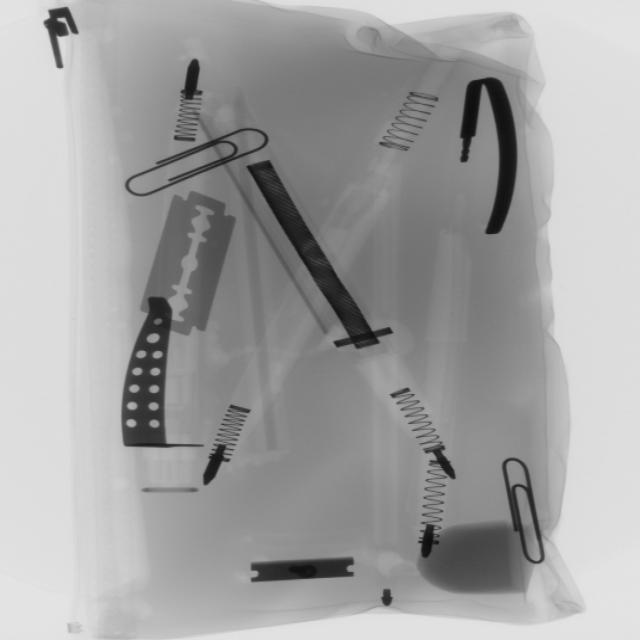BLADE: (140, 180, 241, 351)
